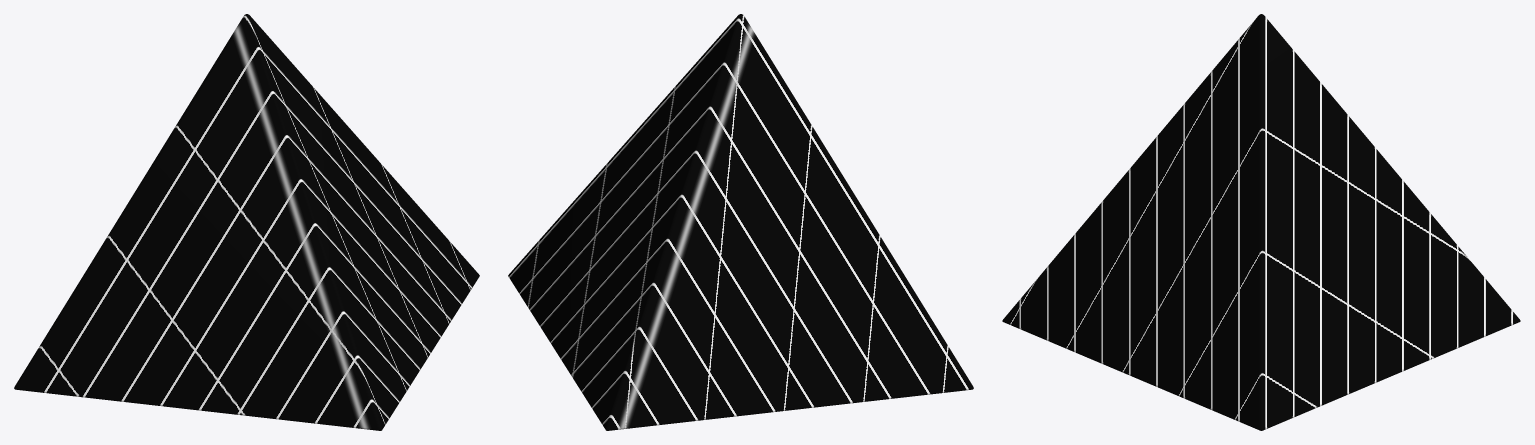
File: SABRANG_CLEAR_ALCHE_PRISM.glb
3 views of the same model, side by side, from view 1: azimuth 30°, elevation 25°; view 2: azimuth 150°, elevation 25°; view 3: azimuth 270°, elevation 25° (orthographic). The views are drawn at different scales.
Visible parts, largest first — view 1: Prism; view 2: Prism; view 3: Prism.
Part boxes in pixels (x1=…): Prism: x1=14, y1=14, x2=479, y2=430; Prism: x1=508, y1=14, x2=973, y2=430; Prism: x1=1002, y1=14, x2=1520, y2=430.
Size of the model in its own units: 1.98 by 1.3 by 1.98.
1 material, 1 textured.
